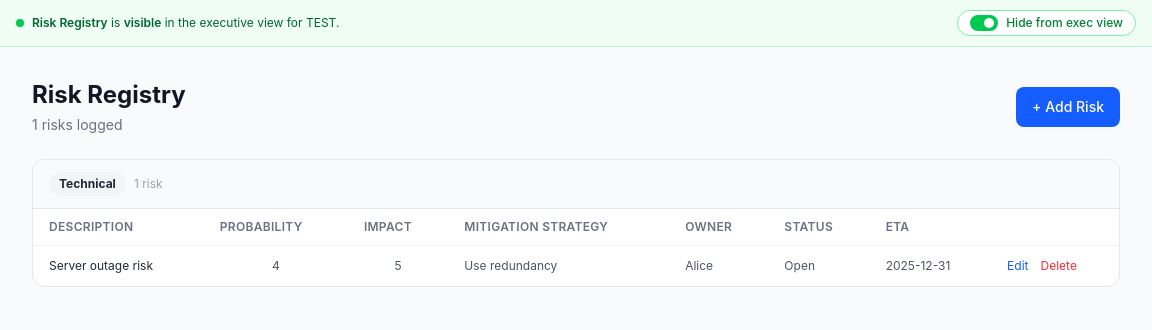
Scenario: RiskEditor › T-26.06: delete button removes the risk from the array
This screenshot has width=1152, height=330.
Check: the text "Server outage risk" is shown, box [33,246,204,286]
Click the button "Delete" at (1059, 266), box [1040,258,1077,274]
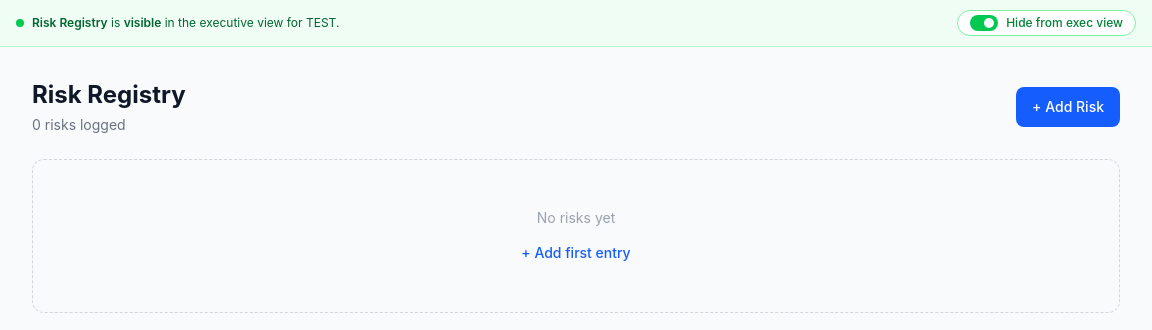
Check: the text "0 risks logged" is shown, box [32,116,126,133]
